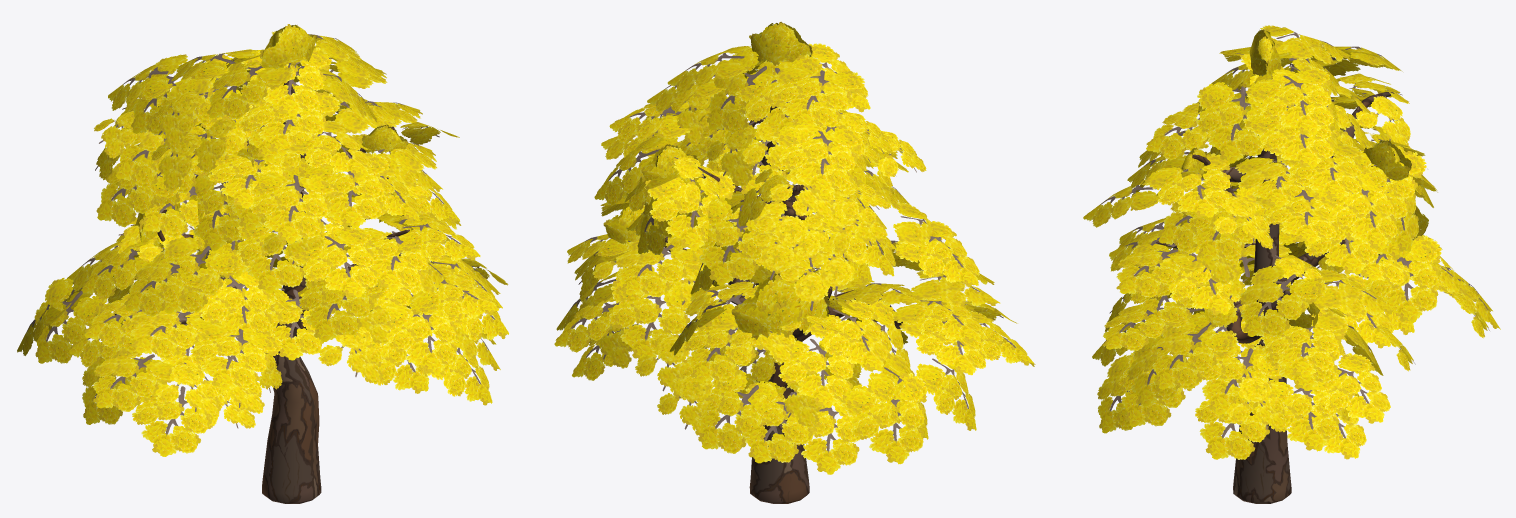
Rendered from GuayacanESPOL.fbx.
The picture shows the model from 3 angles, left to right: view 1: azimuth 30°, elevation 25°; view 2: azimuth 150°, elevation 25°; view 3: azimuth 270°, elevation 25°; orthographic projection. The views are drawn at different scales.
Parts seen in each view (by area): view 1: Tronco, Flor1_50, Flor1_47, Flor1_56, Flor1_32, Flor1_45, Flor1_86, Flor1_9, Flor1_46, Flor1_54, Flor1_23, Flor1_81 (+64 smaller); view 2: Flore3_6 (×3), Flor1_26, Tronco, Flor1_55, Flor1_40, Flor1_57, Flor1_99, Flor1_100, Flor1_16, Flor1_22, Flor1_85, Flor1_28 (+56 smaller); view 3: Tronco, Flor1_92, Flor1_67, Flor1_7, Flor1_35, Flor1_17, Flor1_64, Flor1_10, Flor1_61, Flor1_58, Flor1_27, Flor1_52 (+52 smaller).
Boxes of the visible parts, <box> form: Tronco: <box>114,81,409,503</box>; Flor1_50: <box>248,172,336,243</box>; Flor1_47: <box>190,322,282,390</box>; Flor1_56: <box>288,226,377,297</box>; Flor1_32: <box>379,303,457,374</box>; Flor1_45: <box>132,380,224,456</box>; Flor1_86: <box>34,278,107,363</box>; Flor1_9: <box>299,153,389,228</box>; Flor1_46: <box>93,348,175,411</box>; Flor1_54: <box>156,236,242,313</box>; Flor1_23: <box>299,267,388,341</box>; Flor1_81: <box>200,262,271,344</box>; Flore3_6 (×3): <box>603,145,827,339</box>; Flor1_26: <box>840,373,927,464</box>; Tronco: <box>657,106,902,503</box>; Flor1_55: <box>773,125,863,196</box>; Flor1_40: <box>771,66,864,127</box>; Flor1_57: <box>609,278,694,358</box>; Flor1_99: <box>697,370,786,453</box>; Flor1_100: <box>696,196,781,285</box>; Flor1_16: <box>805,299,889,371</box>; Flor1_22: <box>644,170,735,250</box>; Flor1_85: <box>769,338,854,407</box>; Flor1_28: <box>615,239,704,297</box>; Tronco: <box>1156,92,1394,503</box>; Flor1_92: <box>1239,265,1326,336</box>; Flor1_67: <box>1246,66,1333,134</box>; Flor1_7: <box>1150,319,1238,389</box>; Flor1_35: <box>1196,82,1263,163</box>; Flor1_17: <box>1360,235,1441,322</box>; Flor1_64: <box>1313,169,1397,248</box>; Flor1_10: <box>1145,153,1232,217</box>; Flor1_61: <box>1262,313,1347,377</box>; Flor1_58: <box>1256,376,1339,451</box>; Flor1_27: <box>1310,353,1390,423</box>; Flor1_52: <box>1116,243,1205,297</box>.
Bounding box in the file's own units: 4013 × 4082 × 3400.
2 materials, 2 textured.
